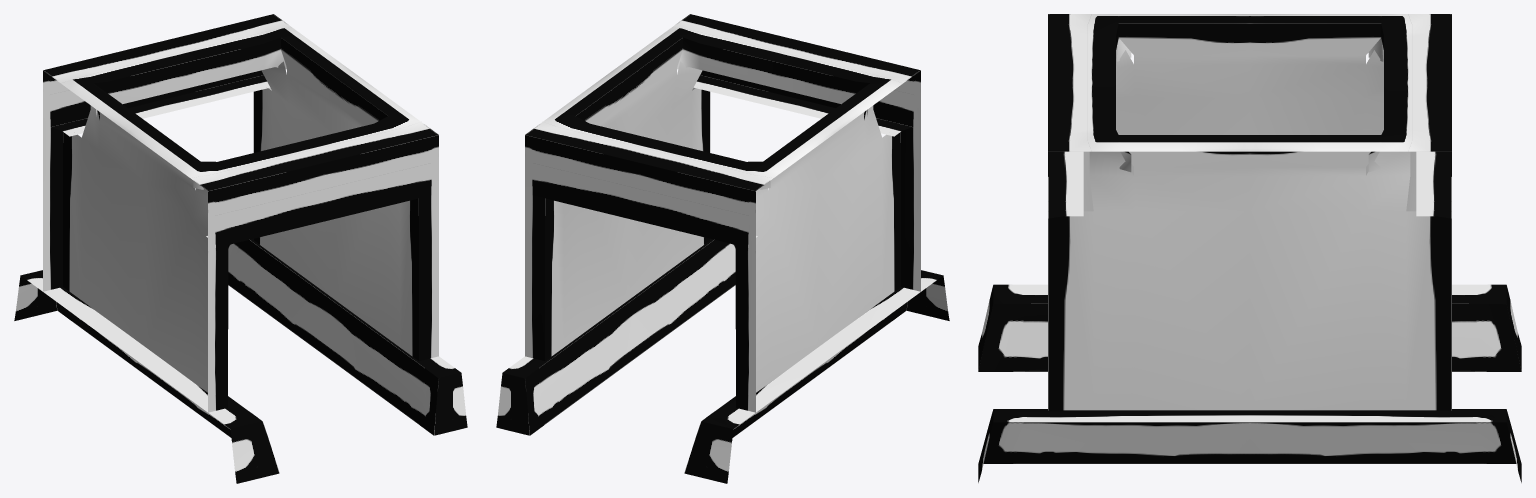
File: 2 Sides Middle Tunnel Building.fbx
The picture shows the model from 3 angles, left to right: view 1: azimuth 30°, elevation 25°; view 2: azimuth 150°, elevation 25°; view 3: azimuth 270°, elevation 25°; orthographic projection. The views are drawn at different scales.
Visible parts, largest first — view 1: 2 Sides Normal Durchgang, 2 Sides Normal Ground; view 2: 2 Sides Normal Durchgang, 2 Sides Normal Ground; view 3: 2 Sides Normal Durchgang, 2 Sides Normal Ground.
Boxes of the visible parts, <box> form: 2 Sides Normal Durchgang: <box>43,14,438,412</box>; 2 Sides Normal Ground: <box>14,238,467,483</box>; 2 Sides Normal Durchgang: <box>525,14,920,412</box>; 2 Sides Normal Ground: <box>496,238,949,483</box>; 2 Sides Normal Durchgang: <box>1048,14,1451,410</box>; 2 Sides Normal Ground: <box>978,284,1521,482</box>.
Size of the model in its own units: 120 by 136 by 200.
